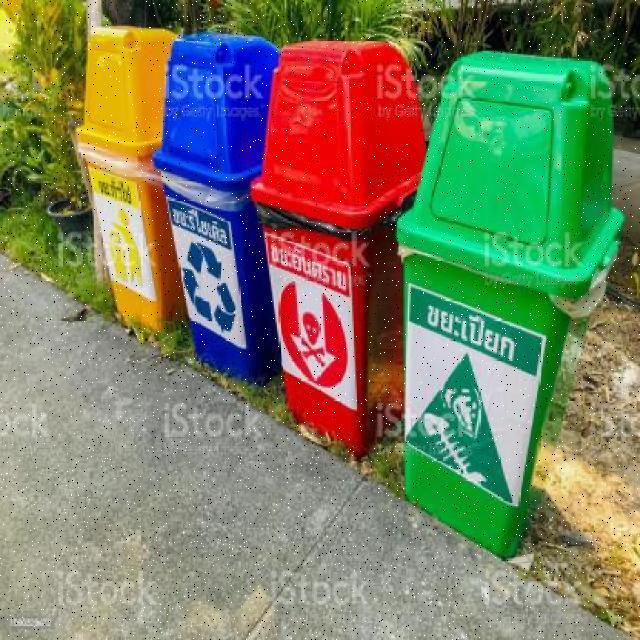garbage container: (389, 43, 631, 571), (264, 32, 404, 475), (158, 29, 281, 406), (69, 23, 180, 345)
